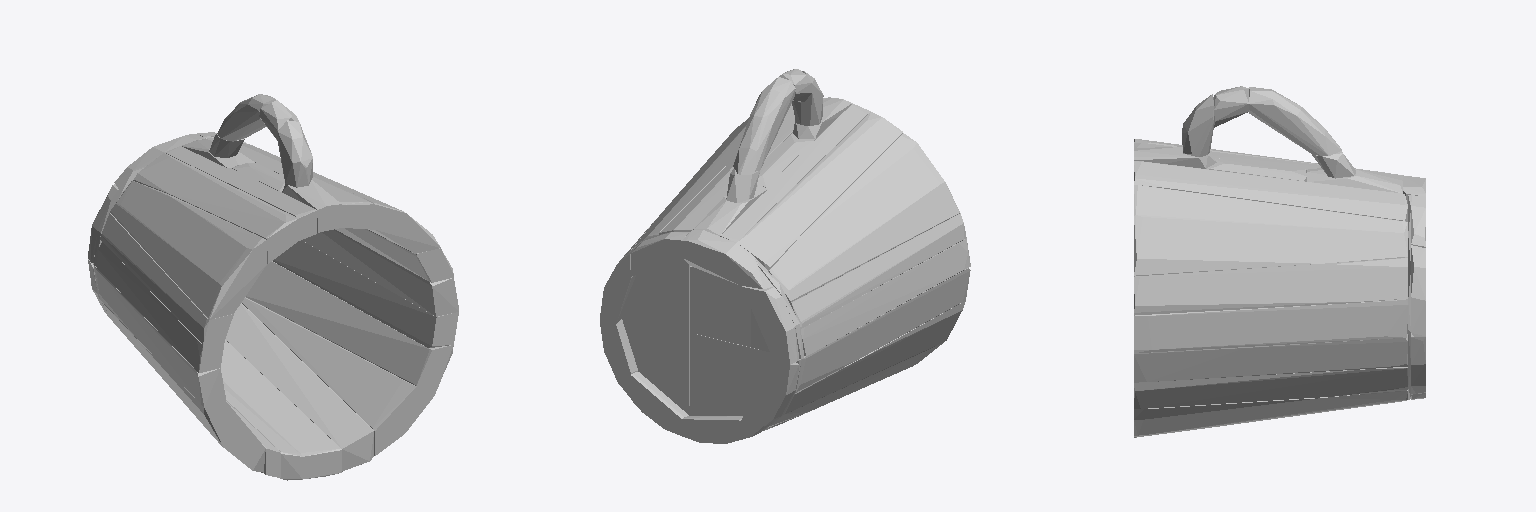
Rendered from mug_vhacd.obj.
3 views of the same model, side by side, from view 1: azimuth 30°, elevation 25°; view 2: azimuth 150°, elevation 25°; view 3: azimuth 270°, elevation 25° (orthographic).
Visible parts, largest first — view 1: convex_29, convex_15, convex_14, convex_13, convex_16, convex_30, convex_7, convex_19, convex_28, convex_27, convex_6, convex_5 (+13 smaller); view 2: convex_29, convex_30, convex_1, convex_0, convex_6, convex_5, convex_28, convex_27, convex_25, convex_33, convex_9, convex_31 (+16 smaller); view 3: convex_22, convex_20, convex_19, convex_16, convex_21, convex_15, convex_14, convex_31, convex_35, convex_18, convex_26, convex_36 (+7 smaller).
Boxes of the visible parts, x1=… form: convex_29: x1=110, y1=181, x2=266, y2=319; convex_15: x1=246, y1=261, x2=453, y2=385; convex_14: x1=242, y1=297, x2=440, y2=455; convex_13: x1=225, y1=303, x2=373, y2=471; convex_16: x1=273, y1=240, x2=458, y2=347; convex_30: x1=133, y1=153, x2=298, y2=263; convex_7: x1=221, y1=340, x2=341, y2=478; convex_19: x1=302, y1=229, x2=458, y2=316; convex_28: x1=100, y1=213, x2=233, y2=344; convex_27: x1=97, y1=242, x2=224, y2=372; convex_6: x1=94, y1=266, x2=225, y2=406; convex_5: x1=101, y1=301, x2=265, y2=472; convex_29: x1=769, y1=133, x2=959, y2=302; convex_30: x1=737, y1=112, x2=902, y2=271; convex_1: x1=622, y1=232, x2=689, y2=414; convex_0: x1=689, y1=333, x2=801, y2=430; convex_6: x1=795, y1=268, x2=970, y2=392; convex_5: x1=770, y1=301, x2=965, y2=425; convex_28: x1=790, y1=213, x2=966, y2=328; convex_27: x1=801, y1=238, x2=970, y2=355; convex_25: x1=690, y1=266, x2=750, y2=346; convex_33: x1=720, y1=103, x2=870, y2=242; convex_9: x1=682, y1=230, x2=772, y2=288; convex_31: x1=733, y1=77, x2=795, y2=174; convex_22: x1=1134, y1=185, x2=1407, y2=276; convex_20: x1=1134, y1=257, x2=1407, y2=315; convex_19: x1=1134, y1=299, x2=1407, y2=352; convex_16: x1=1134, y1=334, x2=1407, y2=382; convex_21: x1=1134, y1=161, x2=1407, y2=221; convex_15: x1=1134, y1=367, x2=1407, y2=408; convex_14: x1=1134, y1=390, x2=1407, y2=436; convex_31: x1=1249, y1=87, x2=1341, y2=155; convex_35: x1=1182, y1=94, x2=1213, y2=156; convex_18: x1=1411, y1=245, x2=1425, y2=336; convex_26: x1=1307, y1=168, x2=1402, y2=193; convex_36: x1=1134, y1=146, x2=1216, y2=168.
Size of the model in its own units: 74.19 by 91.75 by 72.21.